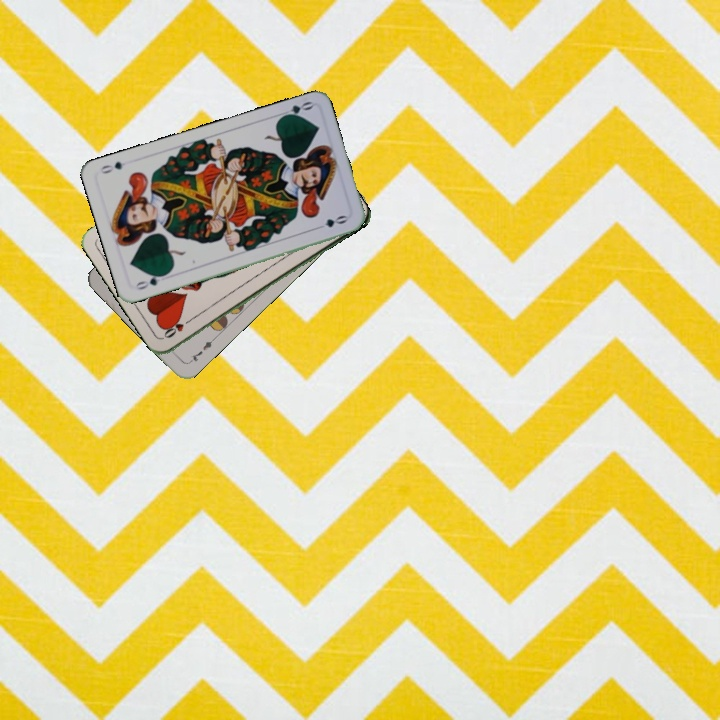E7: (185, 334, 218, 366)
GO: (275, 97, 315, 121), (131, 270, 170, 292)
HO: (160, 314, 196, 341)
